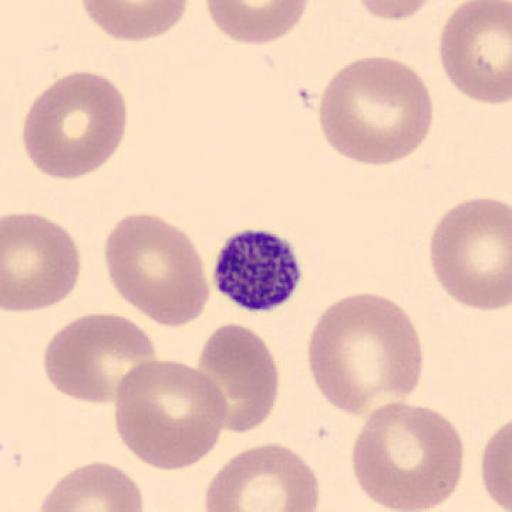Platelet: (210, 226, 306, 314)
RBC: (306, 292, 425, 417), (112, 358, 230, 473), (317, 54, 435, 168), (350, 400, 465, 512), (102, 212, 210, 330), (22, 70, 130, 180), (42, 310, 157, 406), (428, 194, 512, 312), (195, 322, 281, 434), (204, 440, 322, 512), (2, 211, 82, 314), (438, 0, 512, 106), (37, 460, 145, 512), (203, 0, 310, 45), (79, 0, 190, 42), (480, 417, 512, 511), (356, 0, 436, 21)
